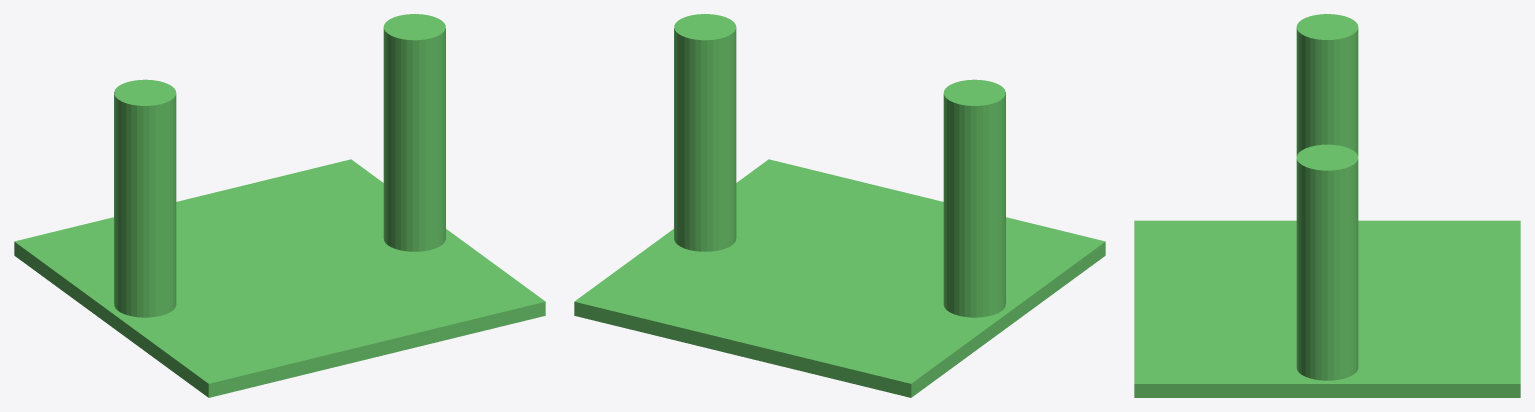
Rendered from rodSupport.dae.
The picture shows the model from 3 angles, left to right: view 1: azimuth 30°, elevation 25°; view 2: azimuth 150°, elevation 25°; view 3: azimuth 270°, elevation 25°; orthographic projection.
Parts seen in each view (by area): view 1: Cube; view 2: Cube; view 3: Cube.
Part boxes in pixels (x1,y1,x2,y2): Cube: [14, 14, 545, 397]; Cube: [574, 14, 1105, 397]; Cube: [1134, 14, 1520, 397].
Bounding box in the file's own units: 0.25 × 0.25 × 0.16.
